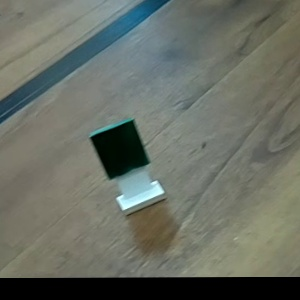rect: (82, 106, 168, 224)
